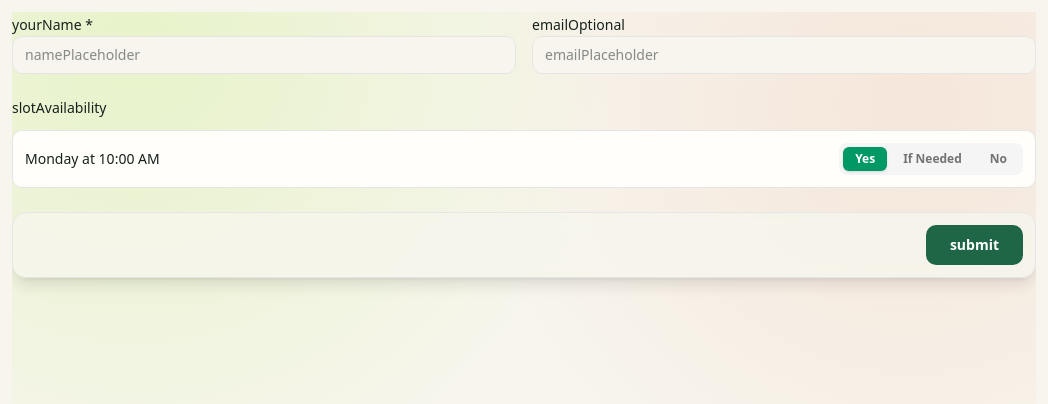
Test: PollVotingForm › keeps visible pending feedback on the submit action
Type "Alex" into the field labelled "yourName *". click: (264, 55)
box: [12,36,516,74]
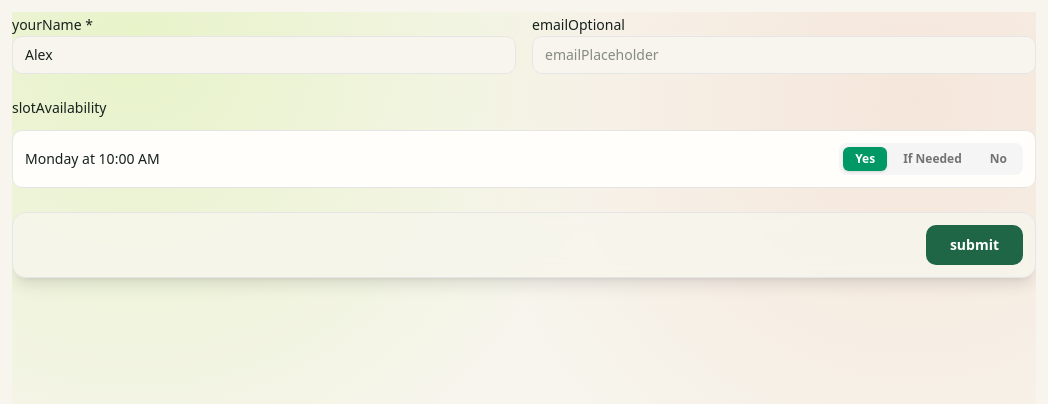
Click the button "submit". click: click(974, 245)
box: [926,225,1023,265]
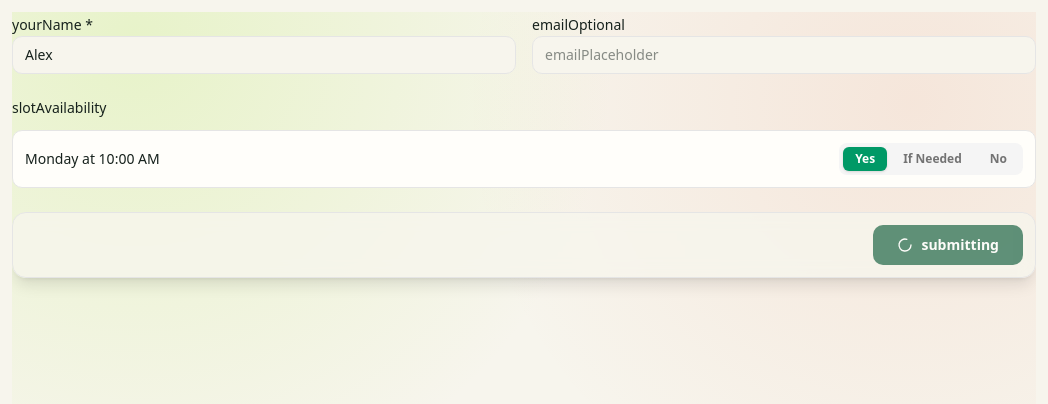
Check: the button "submitting" is disabled, box [874,225,1023,265]
Check: the icon with test id "vote-submit-spinner" is shown, box [898,237,914,253]
